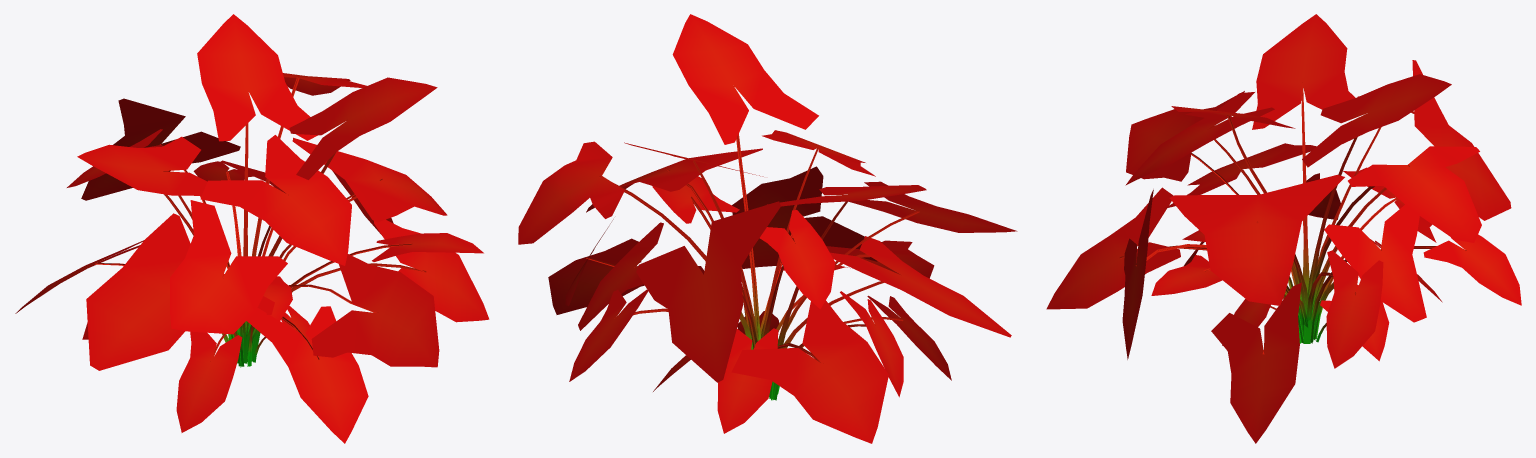
File: Var2_LOD2.fbx
3 renders of one model, left to right at view 1: azimuth 30°, elevation 25°; view 2: azimuth 150°, elevation 25°; view 3: azimuth 270°, elevation 25°, orthographic. The views are drawn at different scales.
Visible parts, largest first — view 1: _bd84_Var2_LOD2; view 2: _bd84_Var2_LOD2; view 3: _bd84_Var2_LOD2.
Part boxes in pixels (left/top/right/bottom): _bd84_Var2_LOD2: left=15, top=14, right=489, bottom=443; _bd84_Var2_LOD2: left=518, top=14, right=1017, bottom=443; _bd84_Var2_LOD2: left=1046, top=14, right=1521, bottom=443.
Bounding box in the file's own units: 70.85 × 46.87 × 68.7.
